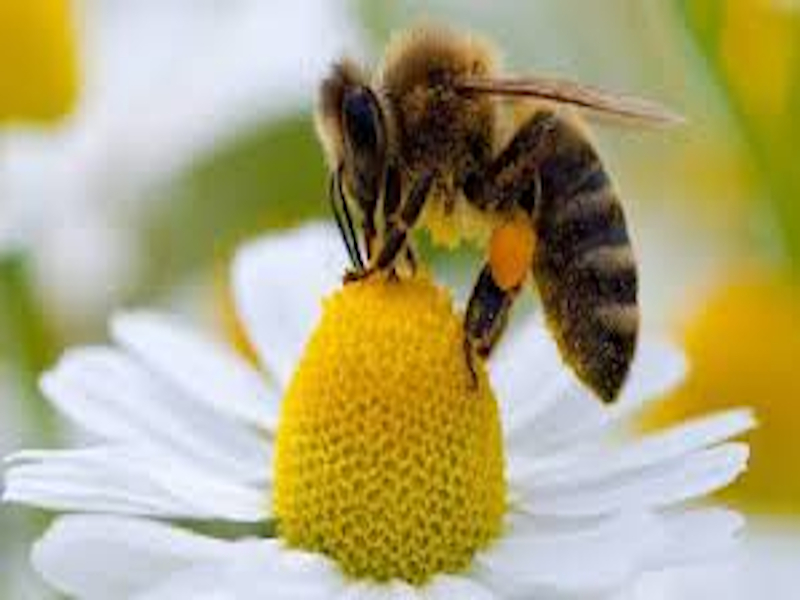abeja: (283, 12, 708, 415)
